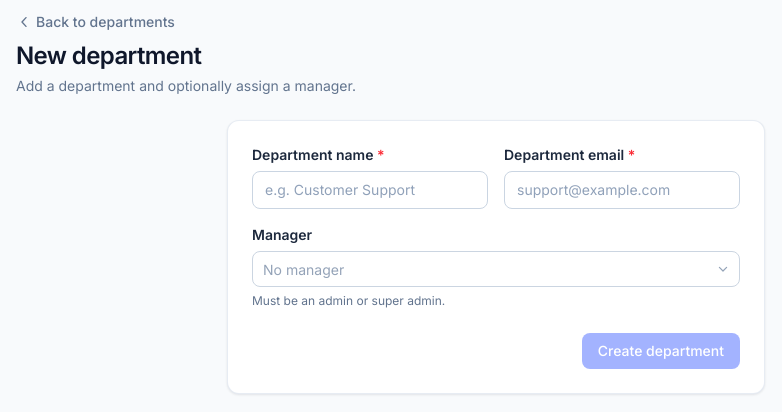
Test: CreateDepartmentPage › only offers admins and super admins as manager options
What coordinates should you click on to do the following:
click the dropdown labelled "Manager"
I would click on:
 (265, 269)
Its box is left=263, top=258, right=267, bottom=280.
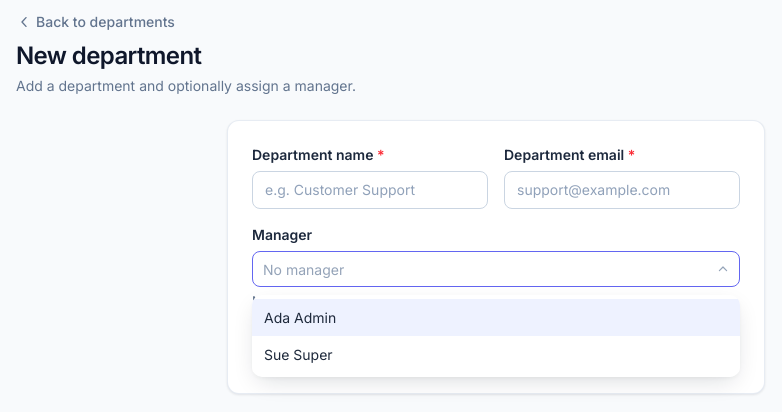
Expected: the number of options is 2, left=252, top=299, right=740, bottom=336; left=252, top=336, right=740, bottom=373
Expected: the option "Ada Admin" is shown, left=252, top=299, right=740, bottom=336
Expected: the option "Sue Super" is shown, left=252, top=336, right=740, bottom=373
